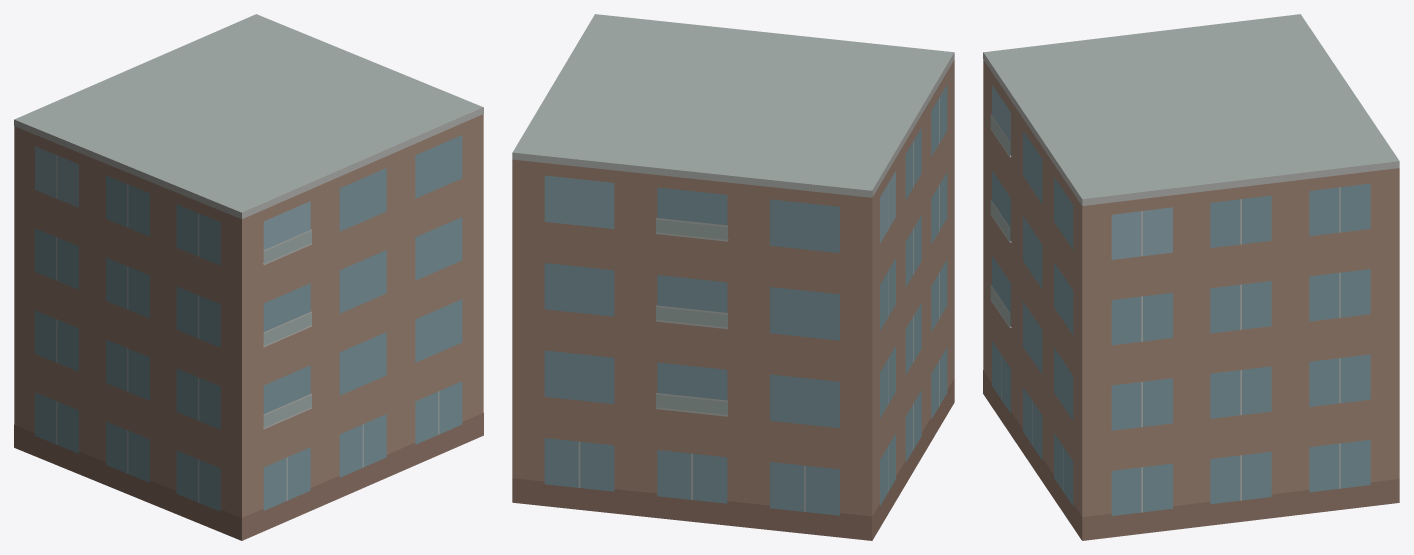
Rendered from residential-1c2db166-ebff-4777-87eb-fbf81a1c3e40.glb.
The picture shows the model from 3 angles, left to right: view 1: azimuth 30°, elevation 25°; view 2: azimuth 150°, elevation 25°; view 3: azimuth 270°, elevation 25°; orthographic projection. The views are drawn at different scales.
Parts seen in each view (by area): view 1: residential-1c2db166-ebff-4777-87eb-fbf81a1c3e40.tmp; view 2: residential-1c2db166-ebff-4777-87eb-fbf81a1c3e40.tmp; view 3: residential-1c2db166-ebff-4777-87eb-fbf81a1c3e40.tmp.
Boxes of the visible parts, bbox=[...] form: residential-1c2db166-ebff-4777-87eb-fbf81a1c3e40.tmp: bbox=[14, 14, 483, 540]; residential-1c2db166-ebff-4777-87eb-fbf81a1c3e40.tmp: bbox=[512, 14, 954, 540]; residential-1c2db166-ebff-4777-87eb-fbf81a1c3e40.tmp: bbox=[983, 14, 1399, 540].
Bounding box in the file's own units: 14.2 × 12.2 × 13.49.
